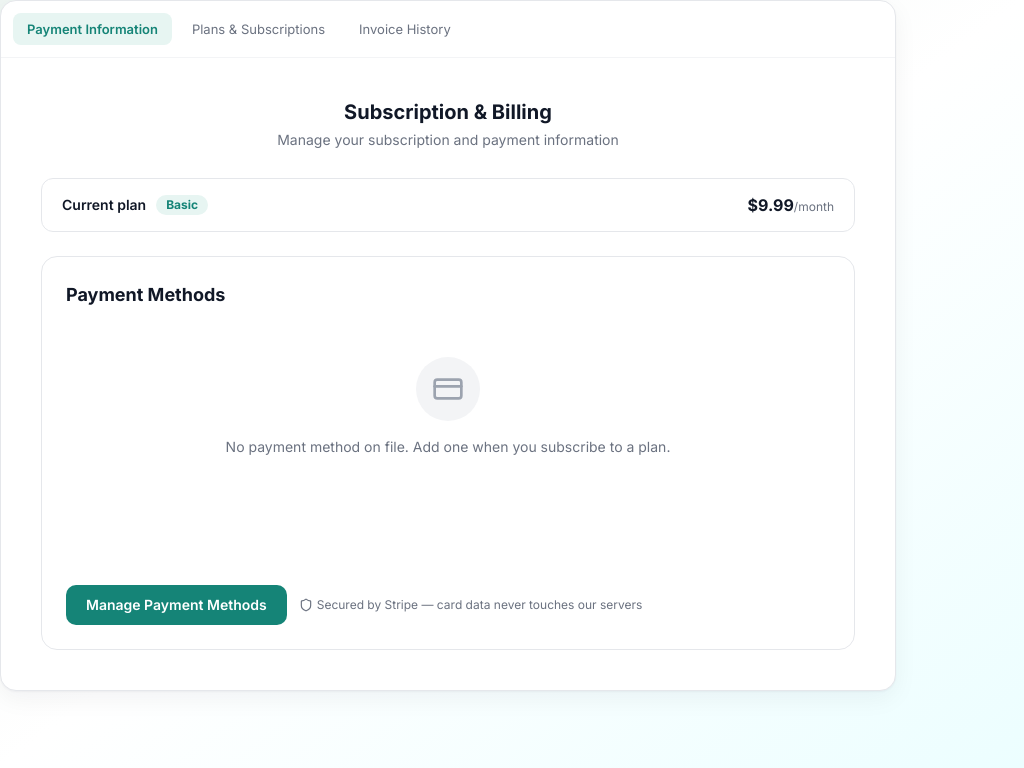
Test: Billing Page Integration › plan change confirmation › warns a paying subscriber that the card on file is charged today
The image size is (1024, 768).
Click the text "Plans & Subscriptions": (258, 29) [192,21,325,37]
(page scrolled)
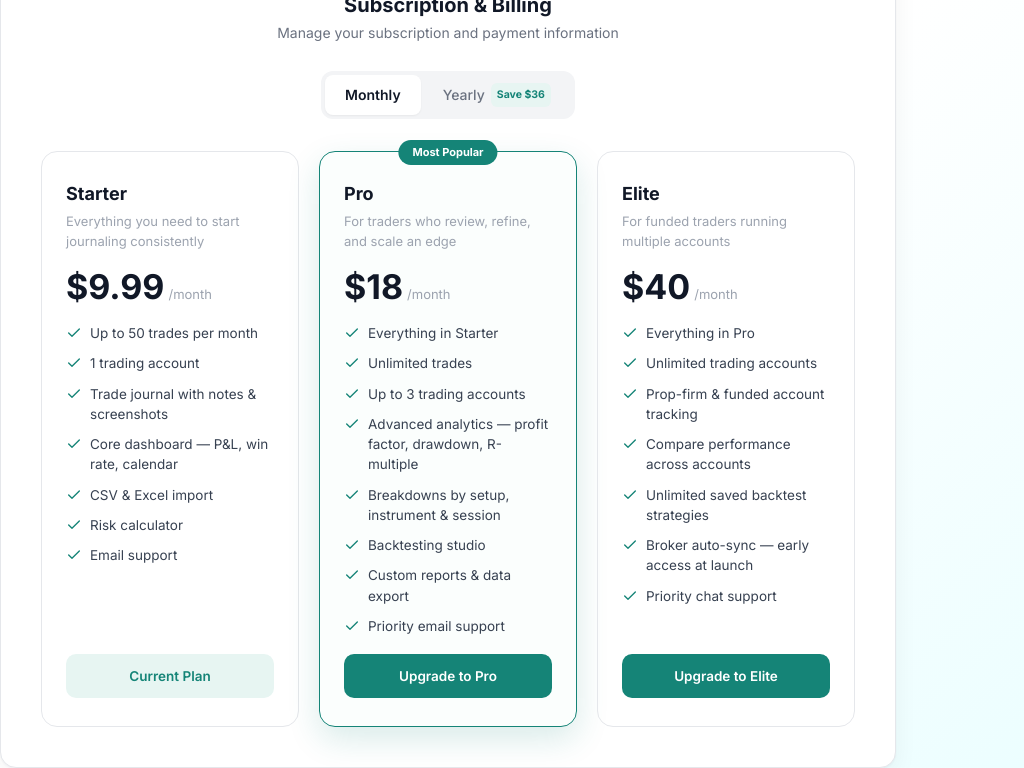
Click the button "Upgrade to Pro": (448, 676) [344,654,552,698]
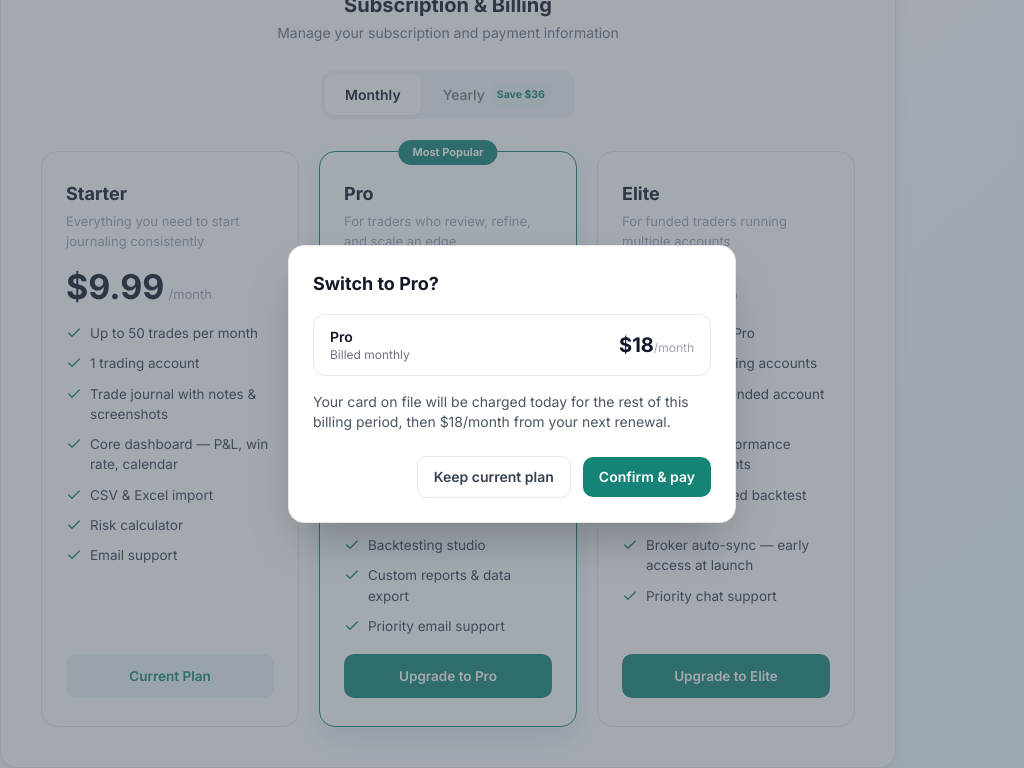
Check: the text with test id "billing-plan-confirm-message" shows "card on file will be charged today", box [313,393,689,430]
